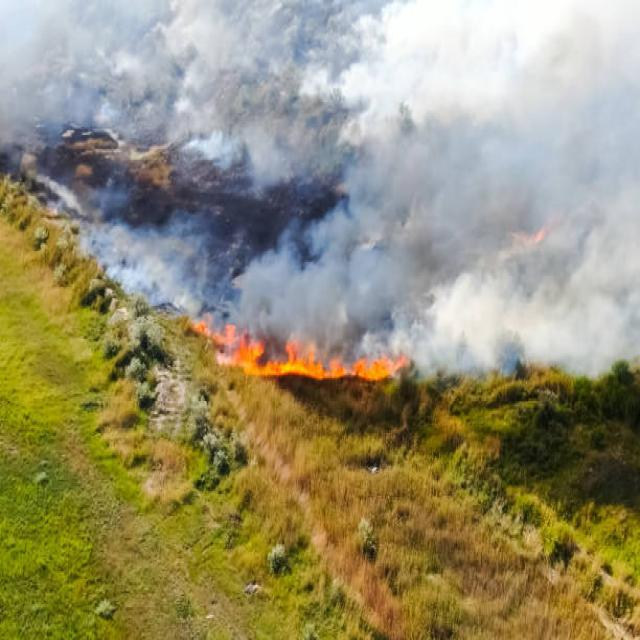Fire: (192, 322, 408, 384)
Smoke: (0, 0, 640, 360)
